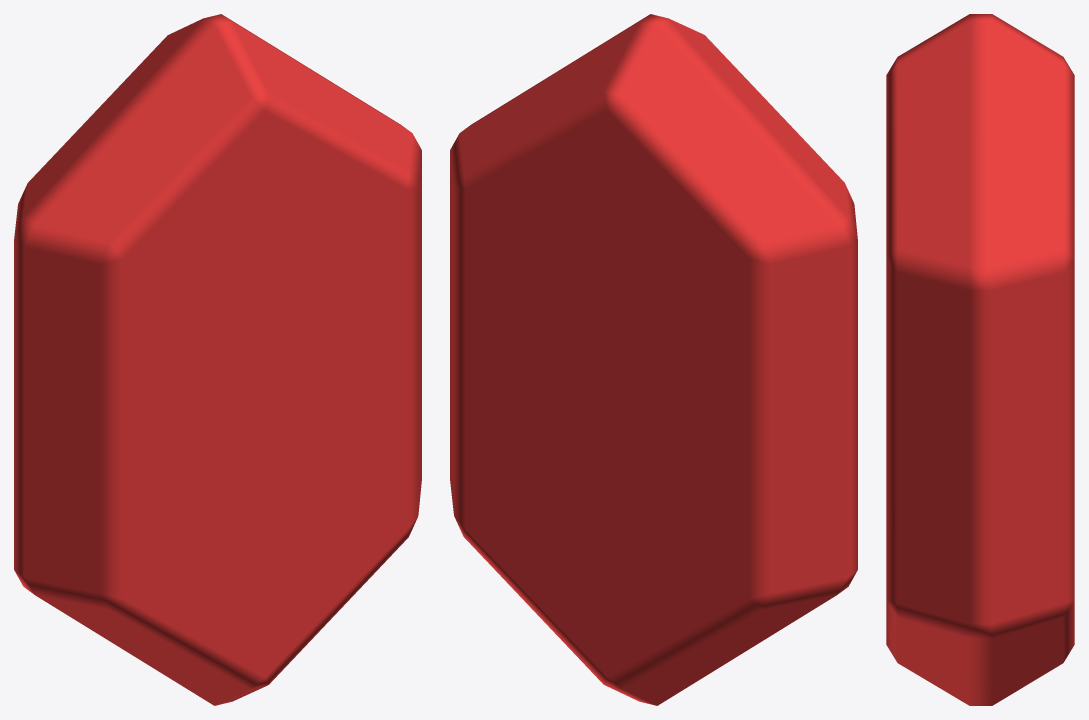
File: crystal3-3notex.fbx
The picture shows the model from 3 angles, left to right: view 1: azimuth 30°, elevation 25°; view 2: azimuth 150°, elevation 25°; view 3: azimuth 270°, elevation 25°; orthographic projection.
Visible parts, largest first — view 1: crystal3-3notex; view 2: crystal3-3notex; view 3: crystal3-3notex.
Boxes of the visible parts, x1,y1,x2,y2 form: crystal3-3notex: [14, 14, 421, 705]; crystal3-3notex: [450, 14, 857, 705]; crystal3-3notex: [886, 14, 1074, 705].
Size of the model in its own units: 0.2885 by 0.4717 by 0.1179.
